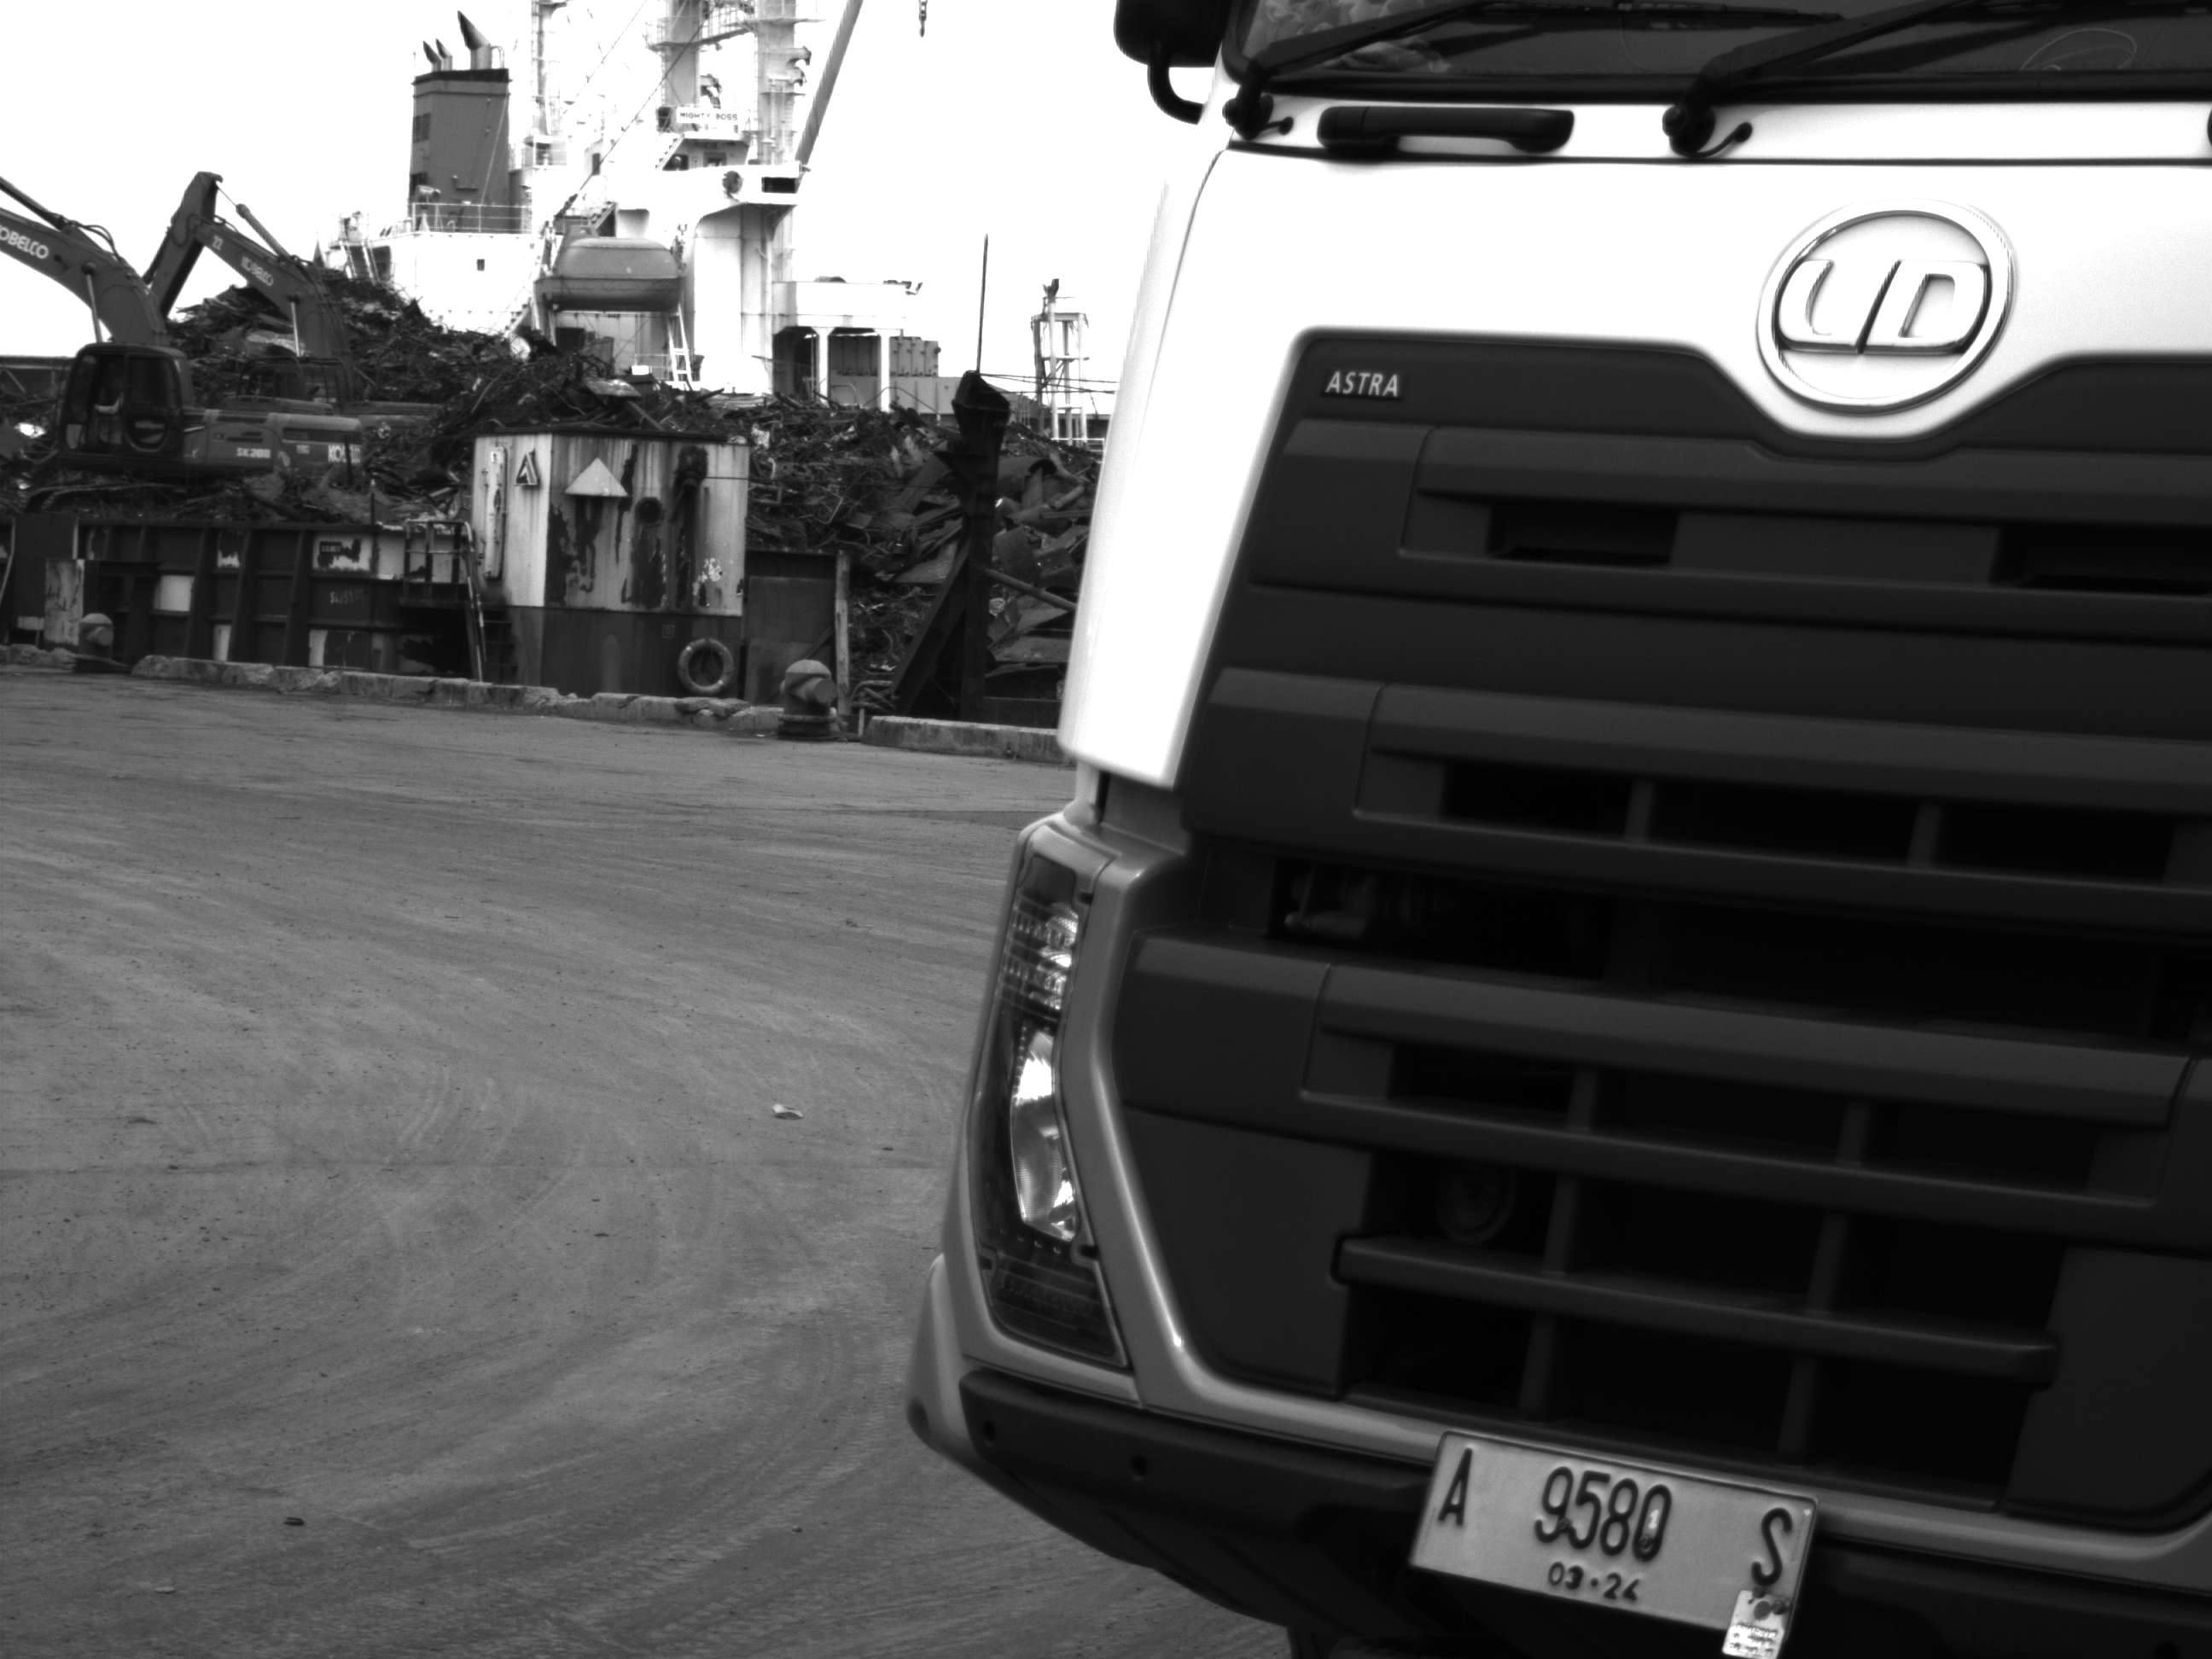day_truck_front: (896, 3, 2210, 1650)
plate: (1396, 1429, 1821, 1651)
